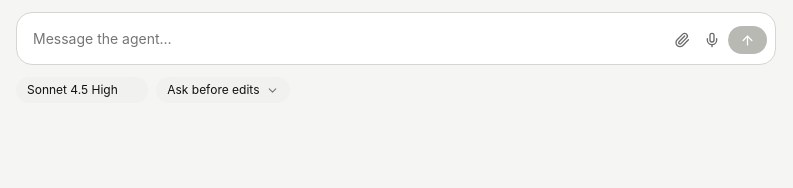
dictation in the composer › starts listening on the mic button, with no chord to hold
Step 1. Type keys "{Alt>} {/Alt}"
Step 2. Click the button named "Start voice input" → point(712, 40), box top-left (698, 26), bottom-right (726, 54)
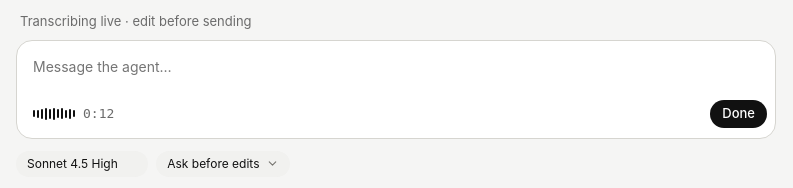
Now the element showing "0:12 Done" is shown, box top-left (33, 92), bottom-right (767, 130)
Now the text "Transcribing live · edit before sending" is shown, box top-left (20, 13), bottom-right (252, 29)
